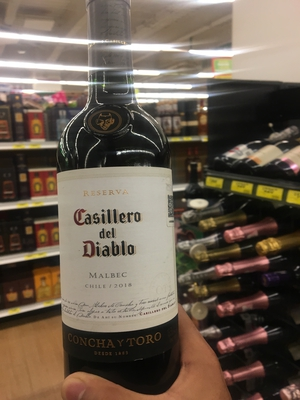casillero del diablo malbec: (48, 9, 188, 387)
